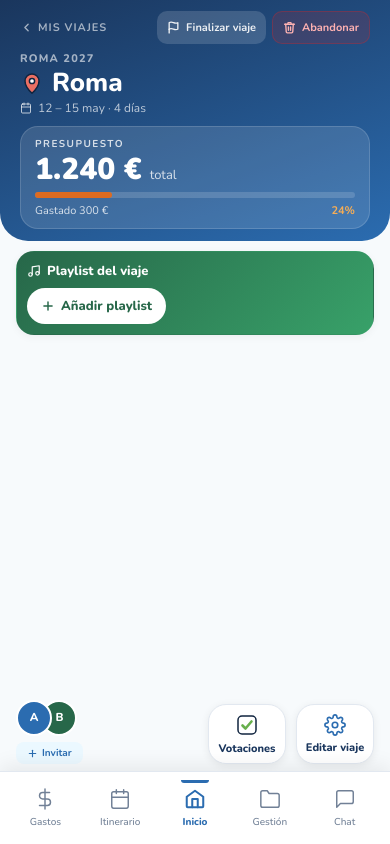
Test: InicioViaje · finalizar viaje con confirmación › al confirmar finaliza el viaje y avisa con el viaje finalizado
This screenshot has width=390, height=844.
Click the button "Finalizar viaje".
click(212, 28)  # box [157,11,266,44]
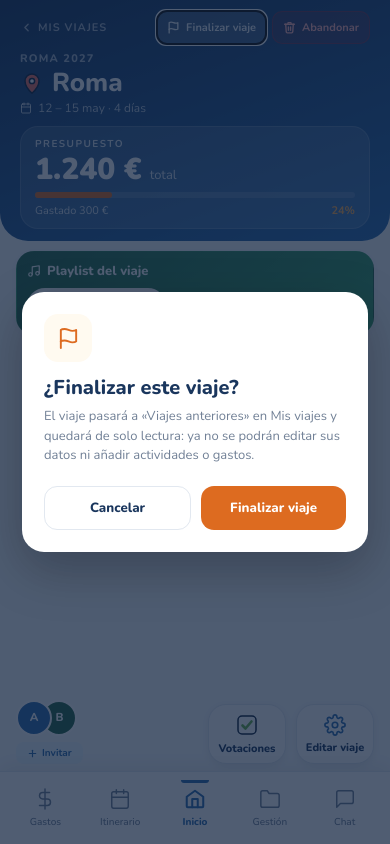
Click the button "Finalizar viaje".
click(274, 508)  # box [201,486,346,530]
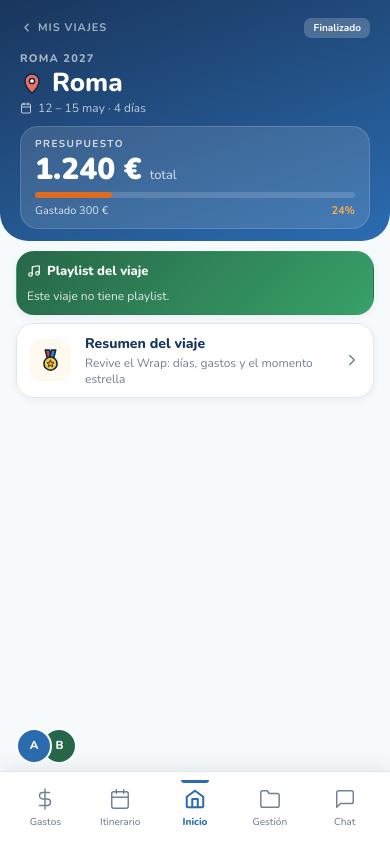
Expected: the dialog is gone
